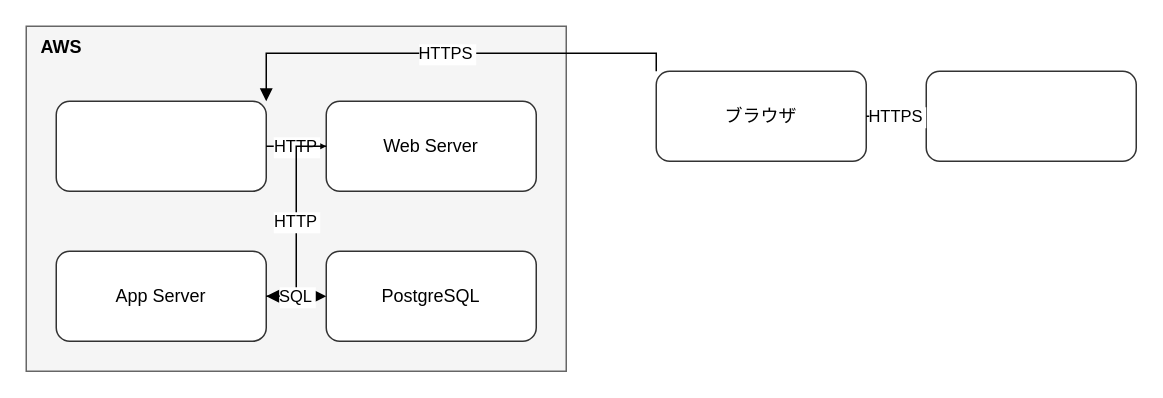
Image size: 1163x398. Some labels were removed from this diagram. Each missing label, with the centre of its shape:
"ALB" goes at point 160,145.
"CDN" goes at point 1030,115.
